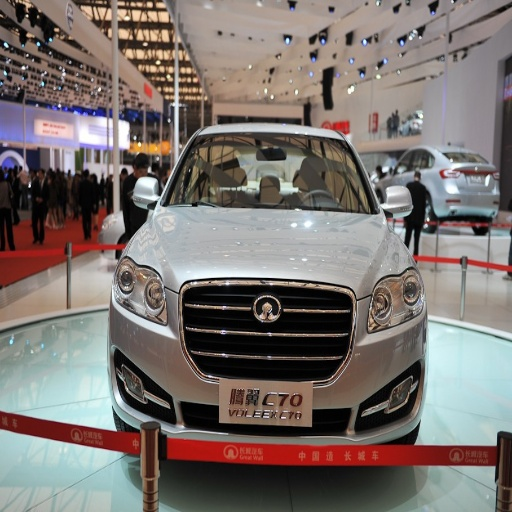front_bumper: (109, 278, 423, 464)
front_right_light: (114, 258, 167, 325)
hood: (131, 207, 405, 297)
